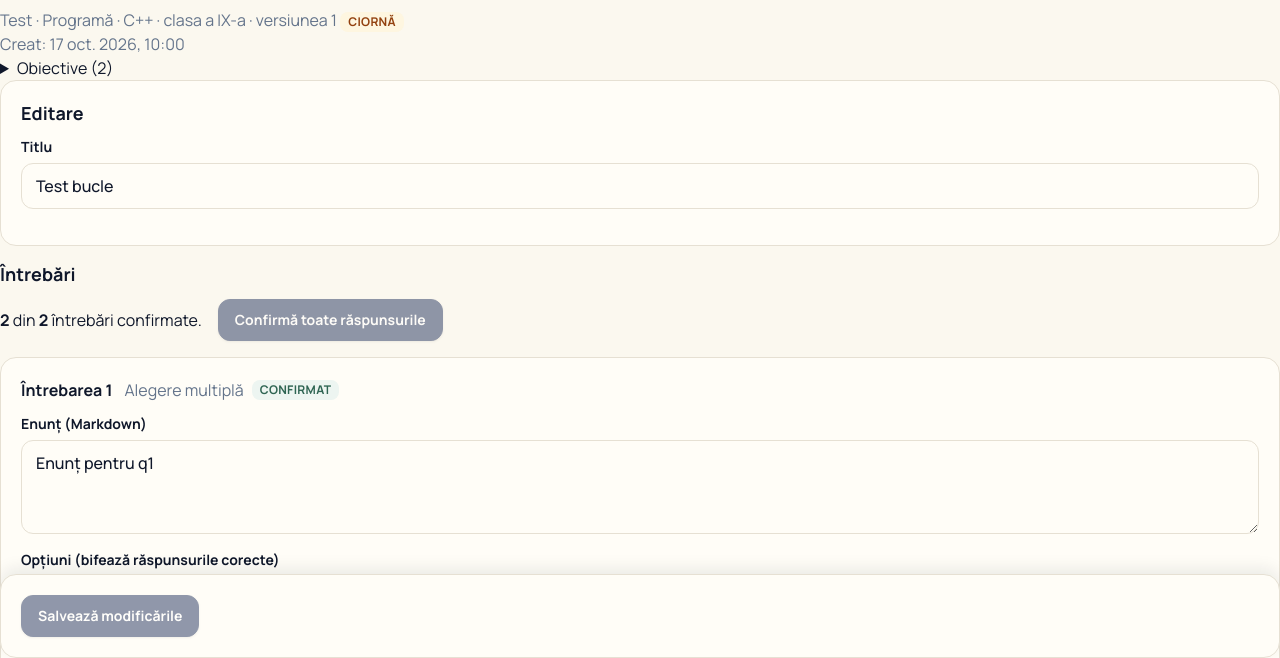
Test case: publish gating › is disabled again as soon as there are unsaved edits, even if all answers were confirmed
Replace the text in the field labelled "Titlu" with "Titlu modificat" at (640, 186), box x1=21 y1=163 x2=1259 y2=209
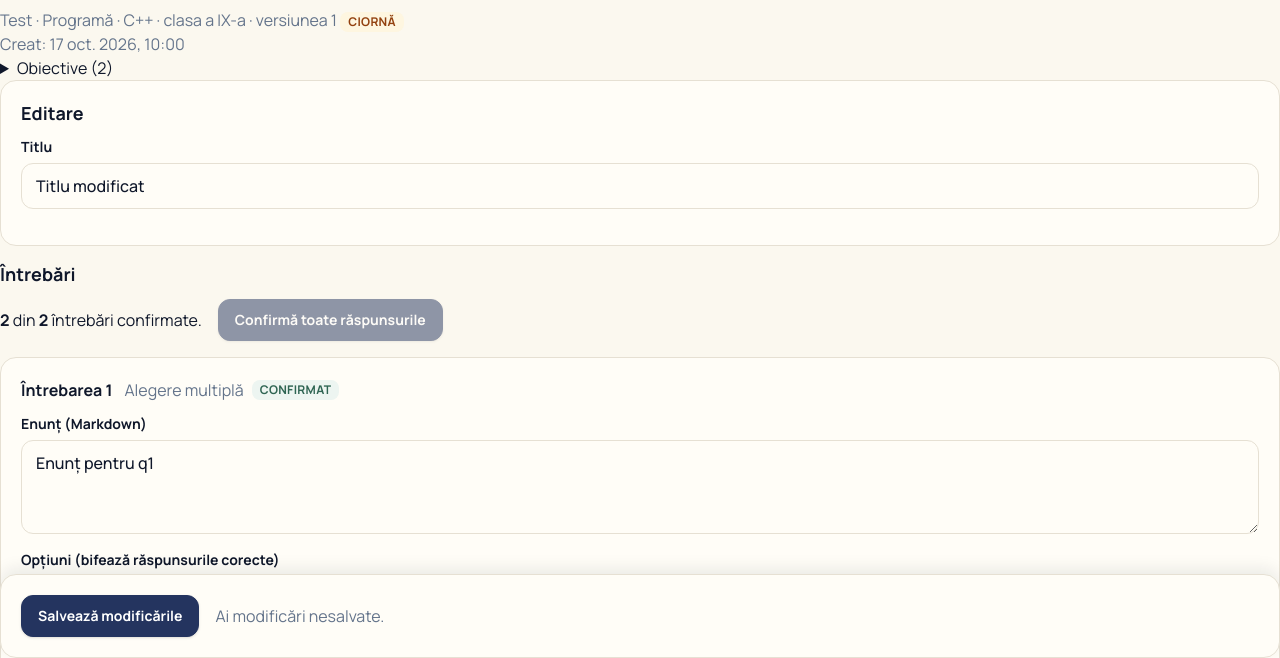
Click the button "Salvează modificările" at (110, 616), box x1=21 y1=595 x2=200 y2=637
(page scrolled)
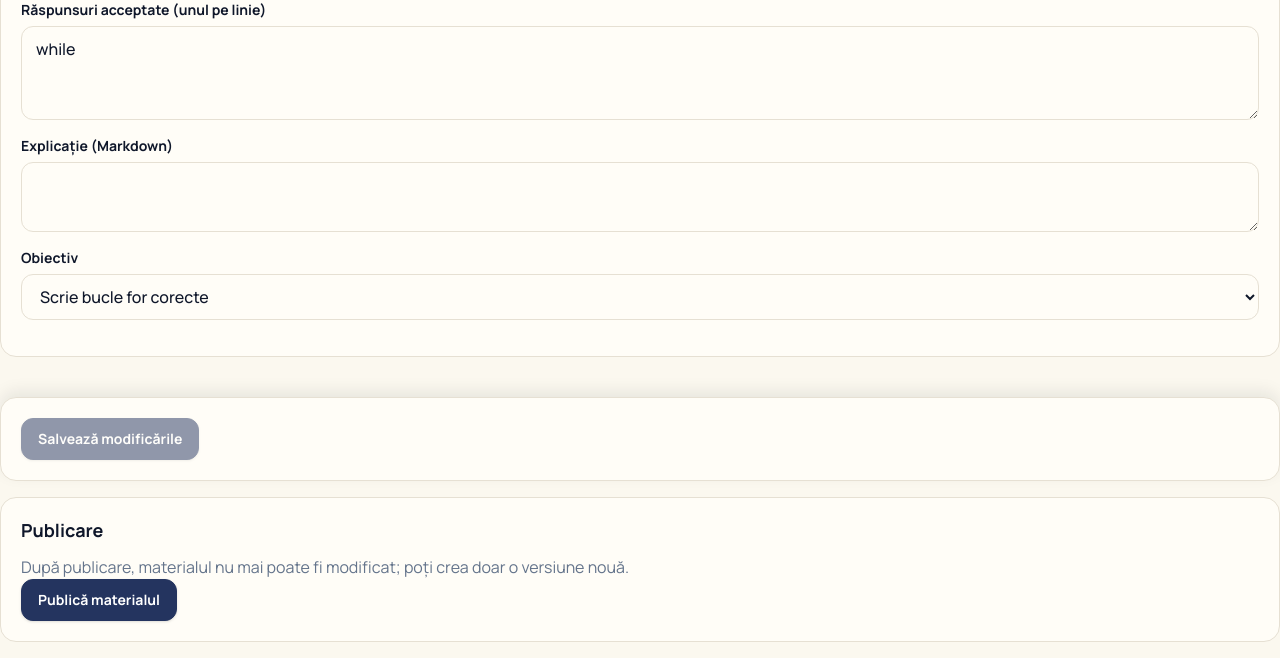
Expected: the button "Publică materialul" is enabled, x1=21 y1=579 x2=177 y2=621
